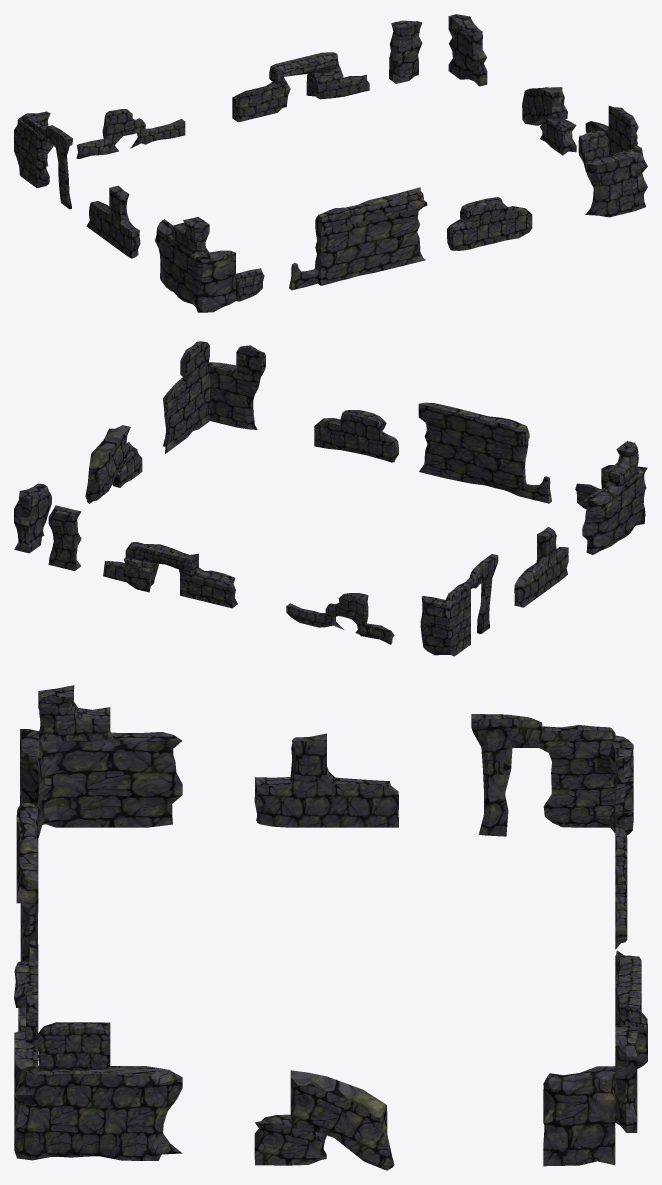
Rendered from Ruins_arranged01.fbx.
The picture shows the model from 3 angles, top to bottom: view 1: azimuth 30°, elevation 25°; view 2: azimuth 150°, elevation 25°; view 3: azimuth 270°, elevation 25°; orthographic projection. The views are drawn at different scales.
Parts seen in each view (by area): view 1: Ruins_02, Ruins_Corner_02, Ruins_Corner_01, Ruins_06, Ruins_Corner_03, Ruins_01, Ruins_03, Ruins_05, Ruins_04, Ruins_Corner_04, Ruins_07; view 2: Ruins_02, Ruins_Corner_01, Ruins_Corner_02, Ruins_06, Ruins_Corner_03, Ruins_01, Ruins_03, Ruins_04, Ruins_05, Ruins_Corner_04, Ruins_07; view 3: Ruins_Corner_01, Ruins_Corner_02, Ruins_Corner_03, Ruins_03, Ruins_04, Ruins_Corner_04, Ruins_02, Ruins_06, Ruins_07, Ruins_05, Ruins_01.
Boxes of the visible parts, x1=… form: Ruins_02: x1=289, y1=187, x2=427, y2=290; Ruins_Corner_02: x1=155, y1=217, x2=264, y2=312; Ruins_Corner_01: x1=578, y1=105, x2=647, y2=217; Ruins_06: x1=232, y1=52, x2=369, y2=122; Ruins_Corner_03: x1=14, y1=111, x2=72, y2=209; Ruins_01: x1=447, y1=197, x2=532, y2=250; Ruins_03: x1=522, y1=87, x2=576, y2=155; Ruins_05: x1=76, y1=109, x2=185, y2=158; Ruins_04: x1=86, y1=185, x2=140, y2=258; Ruins_Corner_04: x1=448, y1=14, x2=487, y2=86; Ruins_07: x1=389, y1=20, x2=422, y2=83; Ruins_02: x1=418, y1=402, x2=551, y2=503; Ruins_Corner_01: x1=163, y1=341, x2=265, y2=453; Ruins_Corner_02: x1=575, y1=441, x2=647, y2=554; Ruins_06: x1=103, y1=542, x2=237, y2=608; Ruins_Corner_03: x1=420, y1=554, x2=498, y2=656; Ruins_01: x1=314, y1=410, x2=398, y2=462; Ruins_03: x1=85, y1=425, x2=142, y2=503; Ruins_04: x1=514, y1=526, x2=568, y2=607; Ruins_05: x1=286, y1=593, x2=394, y2=644; Ruins_Corner_04: x1=14, y1=483, x2=51, y2=553; Ruins_07: x1=48, y1=505, x2=81, y2=570; Ruins_Corner_01: x1=14, y1=983, x2=182, y2=1160; Ruins_Corner_02: x1=20, y1=685, x2=182, y2=837; Ruins_Corner_03: x1=471, y1=714, x2=633, y2=836; Ruins_03: x1=254, y1=1070, x2=394, y2=1170; Ruins_04: x1=254, y1=733, x2=398, y2=827; Ruins_Corner_04: x1=543, y1=1066, x2=615, y2=1166; Ruins_02: x1=16, y1=803, x2=38, y2=963; Ruins_06: x1=615, y1=950, x2=647, y2=1068; Ruins_07: x1=615, y1=1025, x2=638, y2=1132; Ruins_05: x1=615, y1=823, x2=627, y2=949; Ruins_01: x1=14, y1=958, x2=38, y2=1031.
Bounding box in the file's own units: 4.31 × 0.7896 × 3.3.
1 material, 1 textured.
